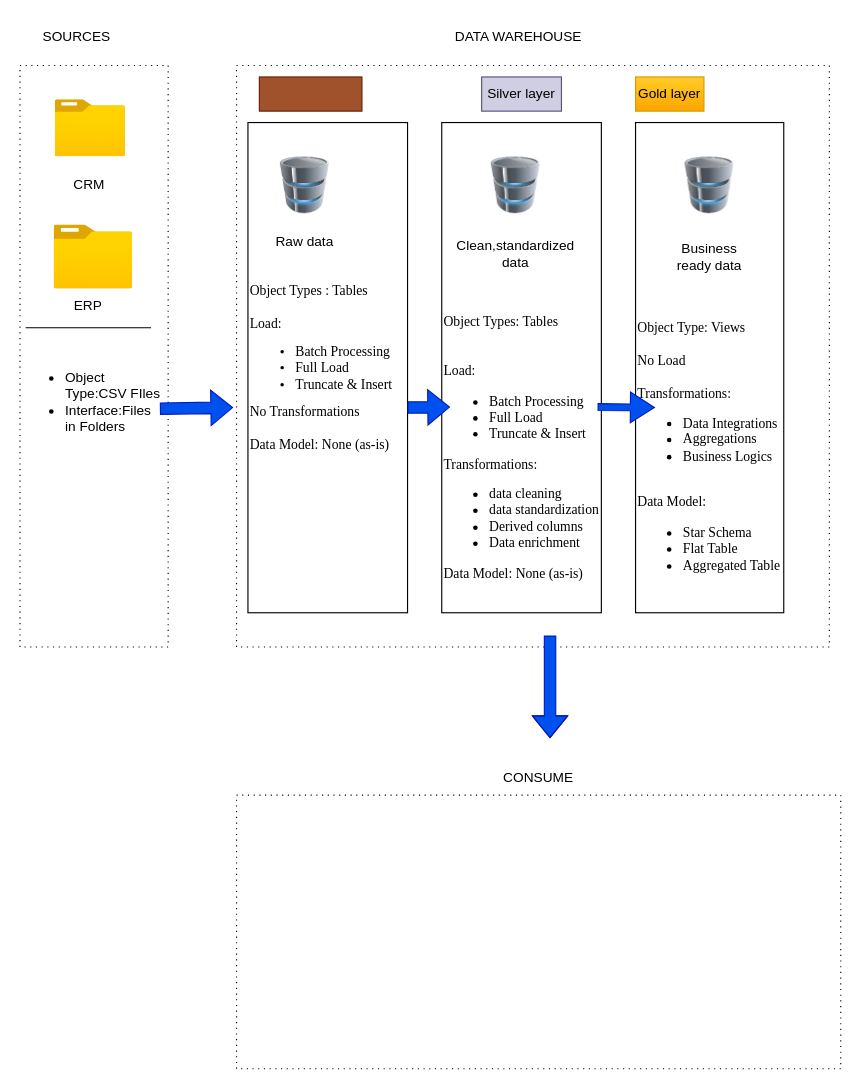
The diagram is 861 pixels wide and 1089 high, and some of its shapes have lost their labels. The centre of each missing label's shape, as x and y in pixels:
"BI & REPORTING ADHOC SQL QUERIES MACHINE LEARNING" belongs at point (538, 931).
"Bronze layer" belongs at point (310, 93).
